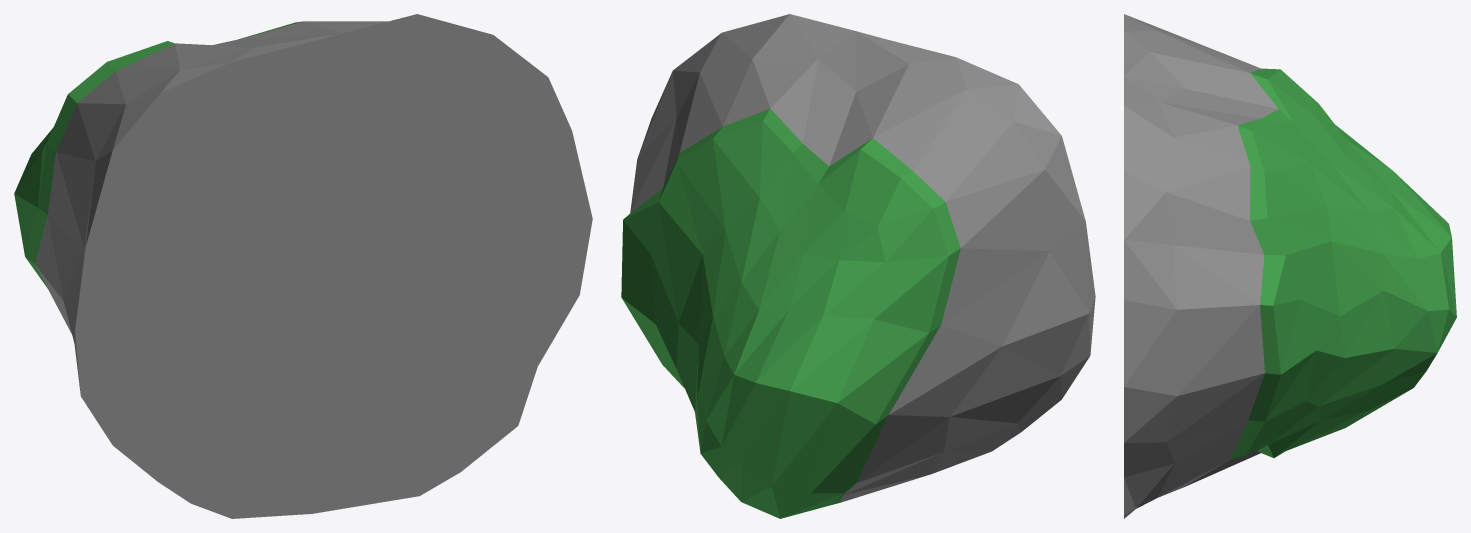
The model's file is Rock_3_Mossy.fbx.
3 renders of one model, left to right at view 1: azimuth 30°, elevation 25°; view 2: azimuth 150°, elevation 25°; view 3: azimuth 270°, elevation 25°, orthographic. The views are drawn at different scales.
Visible parts, largest first — view 1: Rock_3_Mossy; view 2: Rock_3_Mossy; view 3: Rock_3_Mossy.
Boxes of the visible parts, box(x1,y1,x2,y2) form: Rock_3_Mossy: box(14, 14, 592, 518); Rock_3_Mossy: box(621, 14, 1095, 518); Rock_3_Mossy: box(1124, 14, 1456, 518).
Bounding box in the file's own units: 389 × 347 × 257.
